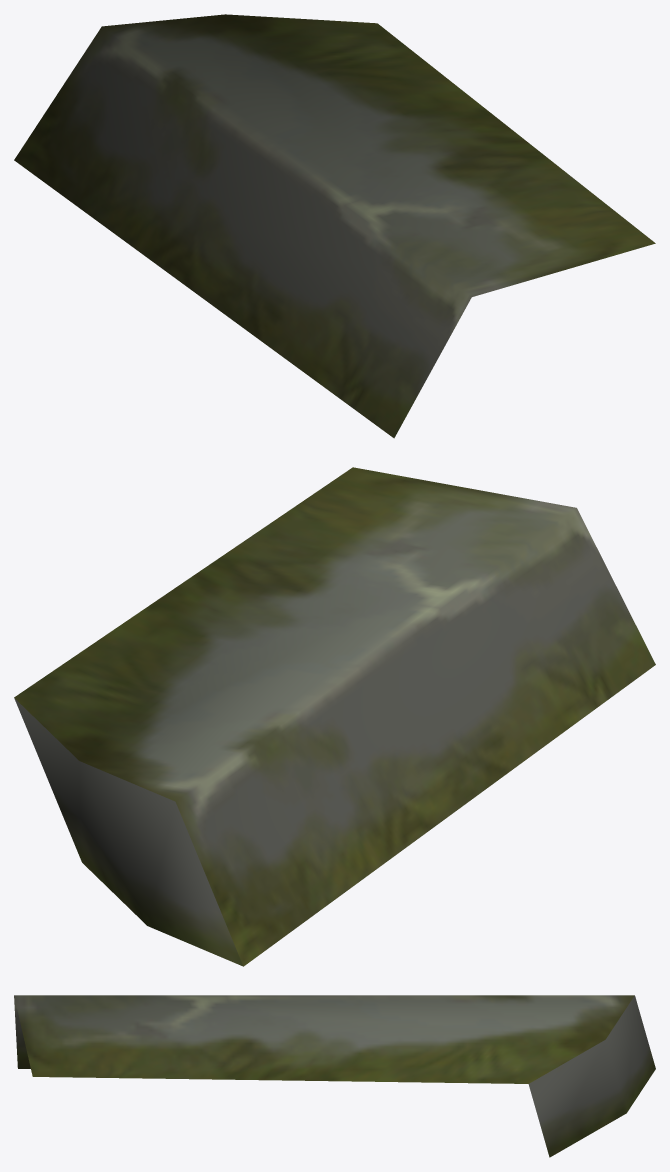
File: yw_shanlin_brokenstonesteps_002.FBX
The picture shows the model from 3 angles, top to bottom: view 1: azimuth 30°, elevation 25°; view 2: azimuth 150°, elevation 25°; view 3: azimuth 270°, elevation 25°; orthographic projection. The views are drawn at different scales.
Parts seen in each view (by area): view 1: yw_shanlin_brokenstonesteps_002; view 2: yw_shanlin_brokenstonesteps_002; view 3: yw_shanlin_brokenstonesteps_002.
Boxes of the visible parts, bbox=[...] form: yw_shanlin_brokenstonesteps_002: bbox=[14, 14, 655, 438]; yw_shanlin_brokenstonesteps_002: bbox=[14, 467, 655, 966]; yw_shanlin_brokenstonesteps_002: bbox=[14, 995, 655, 1157].
Bounding box in the file's own units: 97.48 × 225 × 41.09.
